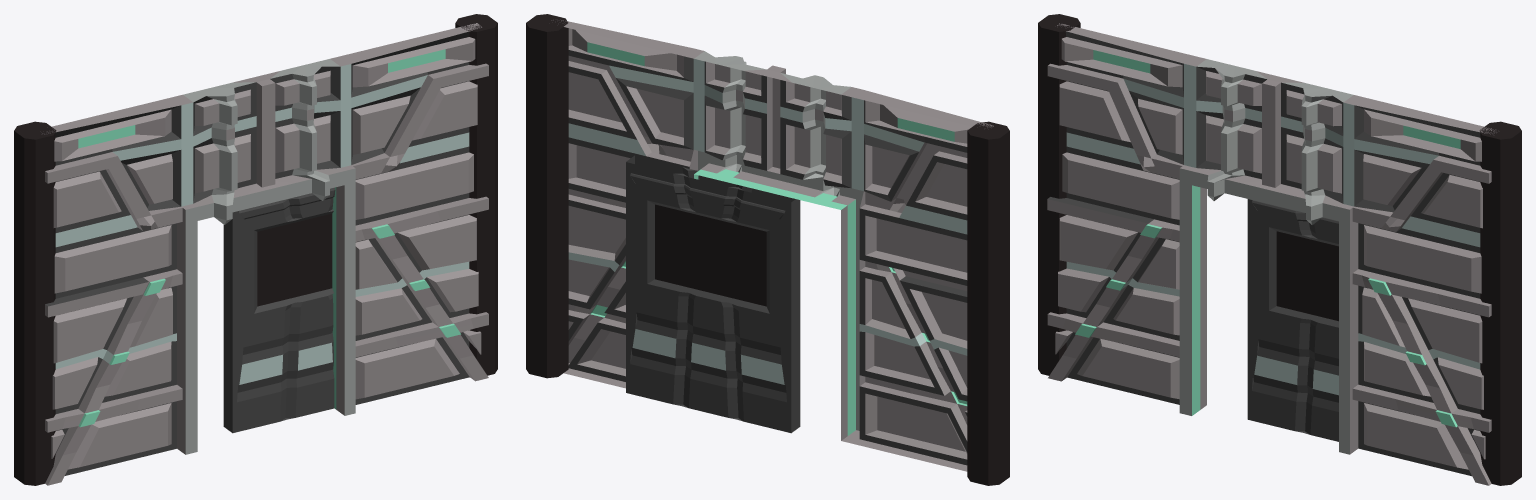
Rendered from door.fbx.
The picture shows the model from 3 angles, left to right: view 1: azimuth 30°, elevation 25°; view 2: azimuth 150°, elevation 25°; view 3: azimuth 330°, elevation 25°; orthographic projection.
Visible parts, largest first — view 1: door, door 2; view 2: door, door 2; view 3: door, door 2.
Part boxes in pixels (x1=…): door: x1=14, y1=14, x2=497, y2=485; door 2: x1=223, y1=187, x2=335, y2=433; door: x1=526, y1=14, x2=1009, y2=485; door 2: x1=626, y1=155, x2=800, y2=433; door: x1=1038, y1=14, x2=1521, y2=485; door 2: x1=1247, y1=199, x2=1338, y2=441.
Bounding box in the file's own units: 429 × 301 × 48.27.
